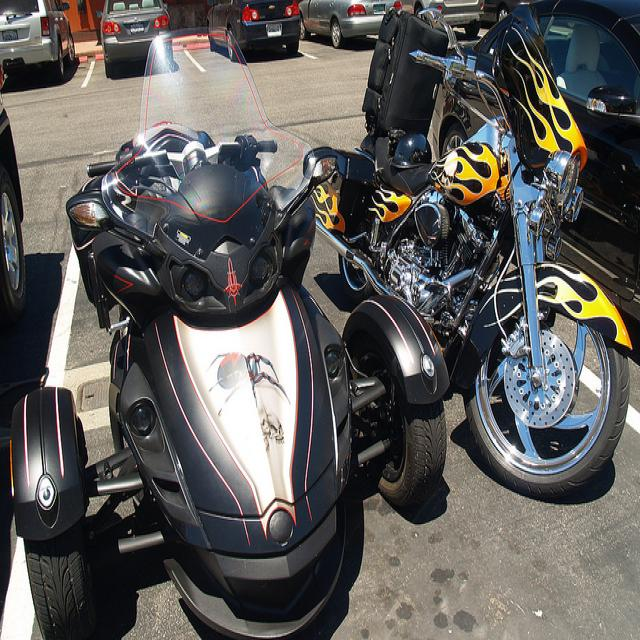motor: (6, 16, 455, 634), (330, 7, 633, 514)
